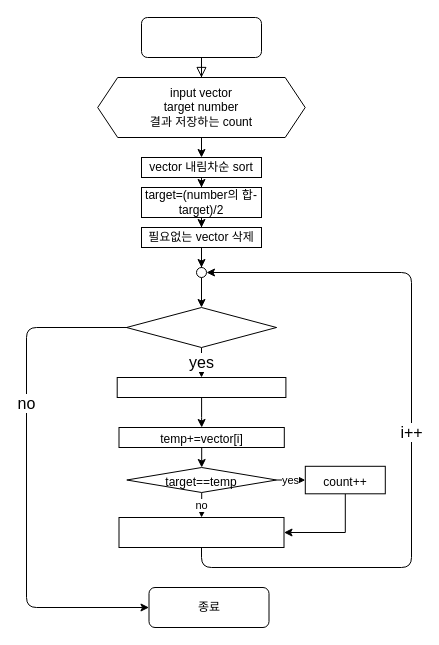
Image size: 439x645. Some labels were removed from this diagram. The shapes that lost their labels are listed below. From the top down, each one's centre as x and y in pixels, then its label:
At (201,37): "시작".
At (201,327): "i=0 to vector size".
At (201,387): "다시 필요없는 vector 삭제".
At (201,532): "temp-=vector[i]".
